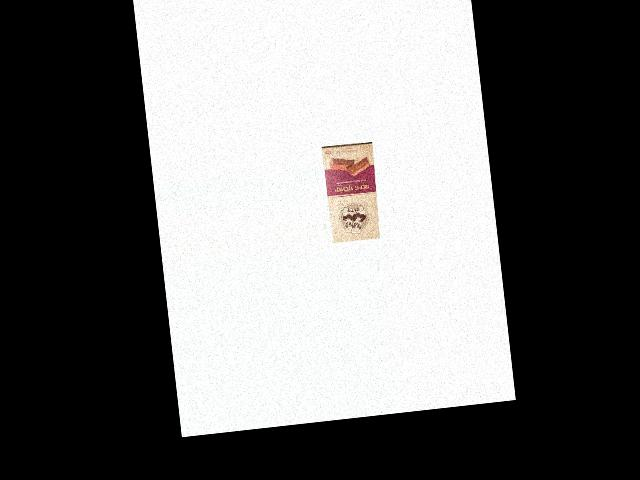chocolate: (323, 141, 384, 243)
